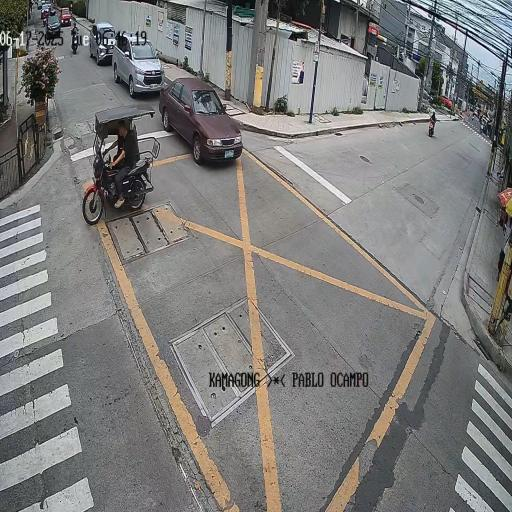Car: (158, 73, 244, 173), (109, 36, 173, 102), (89, 22, 115, 71)
Motor: (76, 165, 152, 216)
